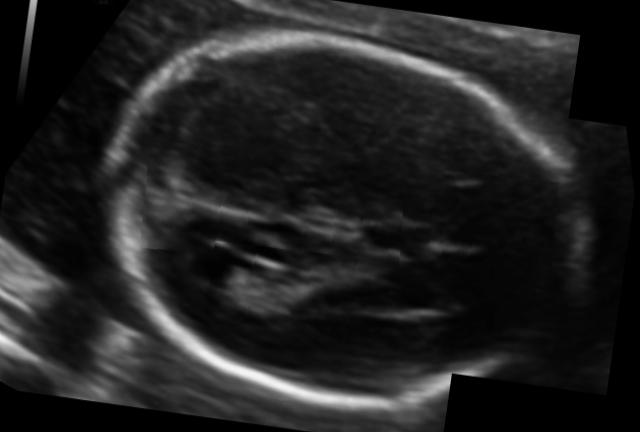CHOROID_PLEXUS: (204, 239, 355, 341)
CSP: (394, 195, 491, 284)
MIDLINE_FALX: (136, 129, 562, 301)
